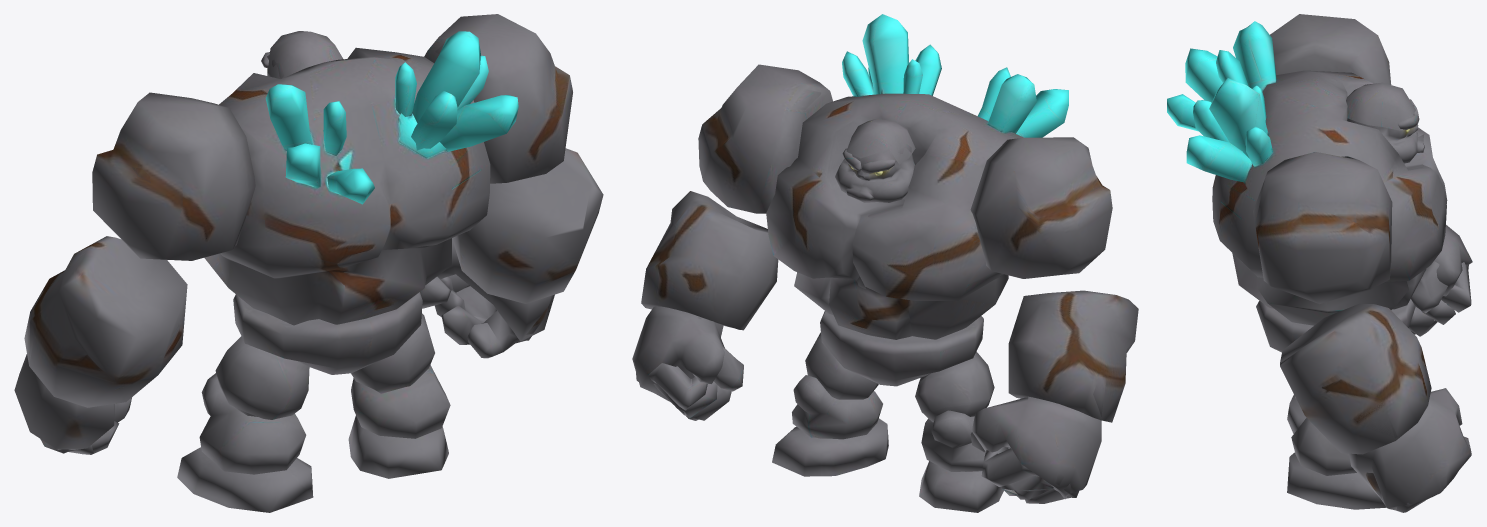
File: golem.glb
The picture shows the model from 3 angles, left to right: view 1: azimuth 30°, elevation 25°; view 2: azimuth 150°, elevation 25°; view 3: azimuth 270°, elevation 25°; orthographic projection. The views are drawn at different scales.
Parts seen in each view (by area): view 1: Part0, Part1, Part2; view 2: Part0, Part1, Part2; view 3: Part0, Part2, Part1.
Part boxes in pixels (<box>): Part0: <box>92,14,572,512</box>; Part1: <box>14,236,187,454</box>; Part2: <box>420,148,603,358</box>; Part0: <box>698,14,1112,512</box>; Part1: <box>970,290,1138,503</box>; Part2: <box>632,191,778,420</box>; Part0: <box>1167,14,1447,509</box>; Part2: <box>1280,303,1471,512</box>; Part1: <box>1408,225,1472,336</box>.
Size of the model in its own units: 2.74 by 2.3 by 1.55.
Materials: 1 (1 with a texture image).
